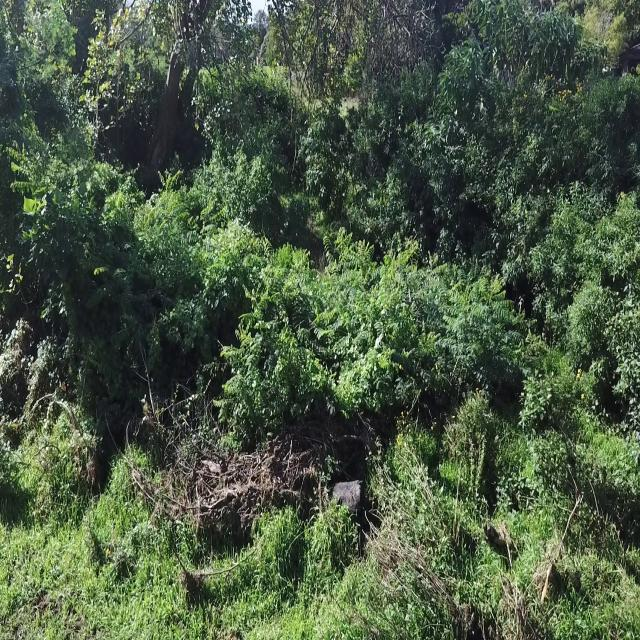Mysore-Thorn-Weed: (320, 221, 417, 414), (414, 252, 530, 409), (216, 282, 311, 453), (261, 227, 323, 327), (140, 163, 190, 269)
